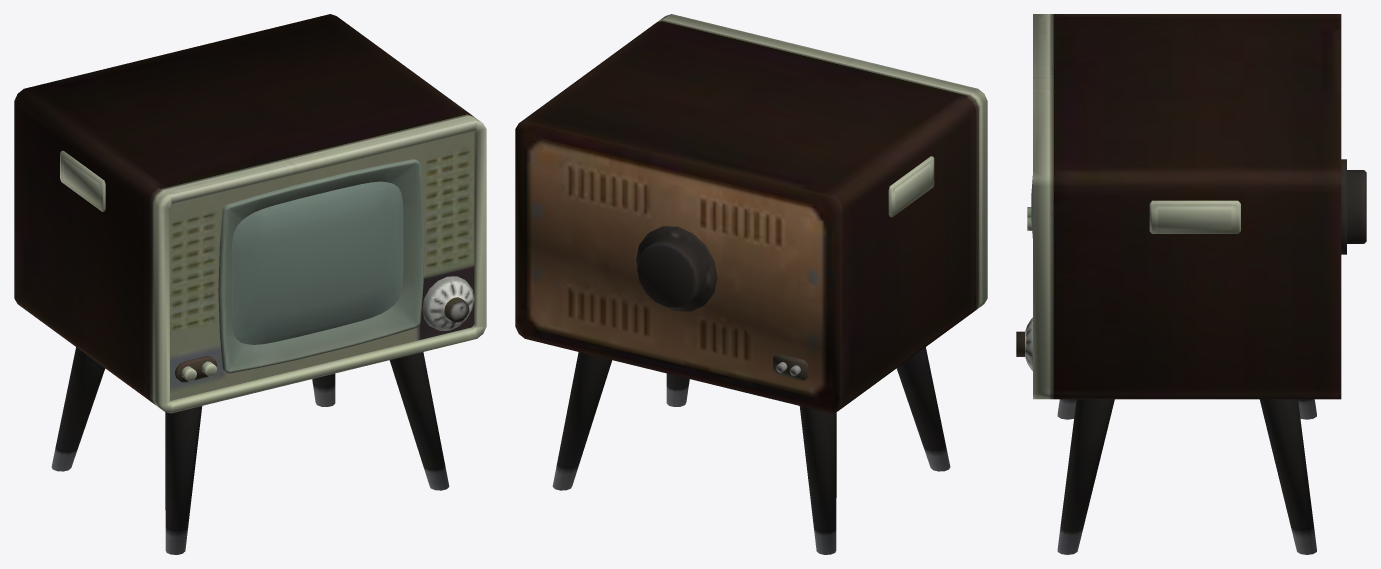
The picture shows the model from 3 angles, left to right: view 1: azimuth 30°, elevation 25°; view 2: azimuth 150°, elevation 25°; view 3: azimuth 270°, elevation 25°; orthographic projection. The views are drawn at different scales.
Size of the model in its own units: 9.35 by 10.07 by 8.18.
Materials: 2 (2 with a texture image).
